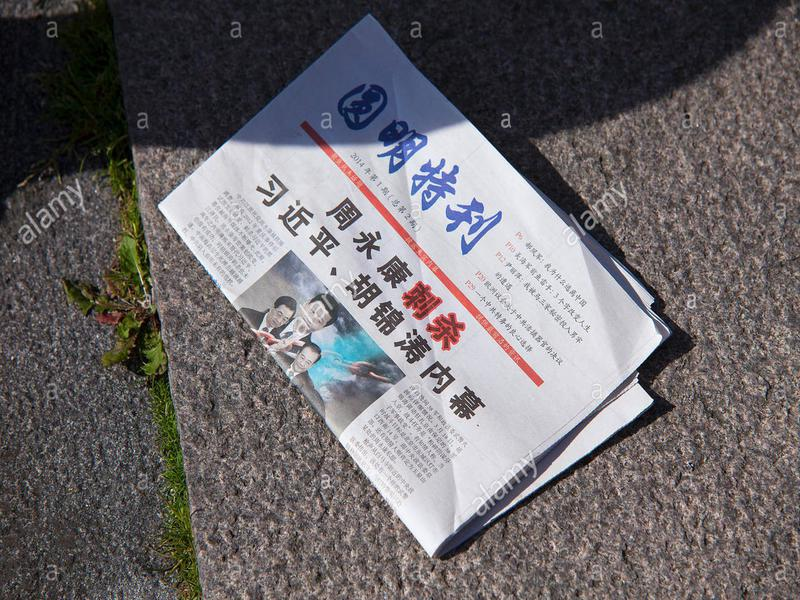paper: (145, 14, 677, 562)
